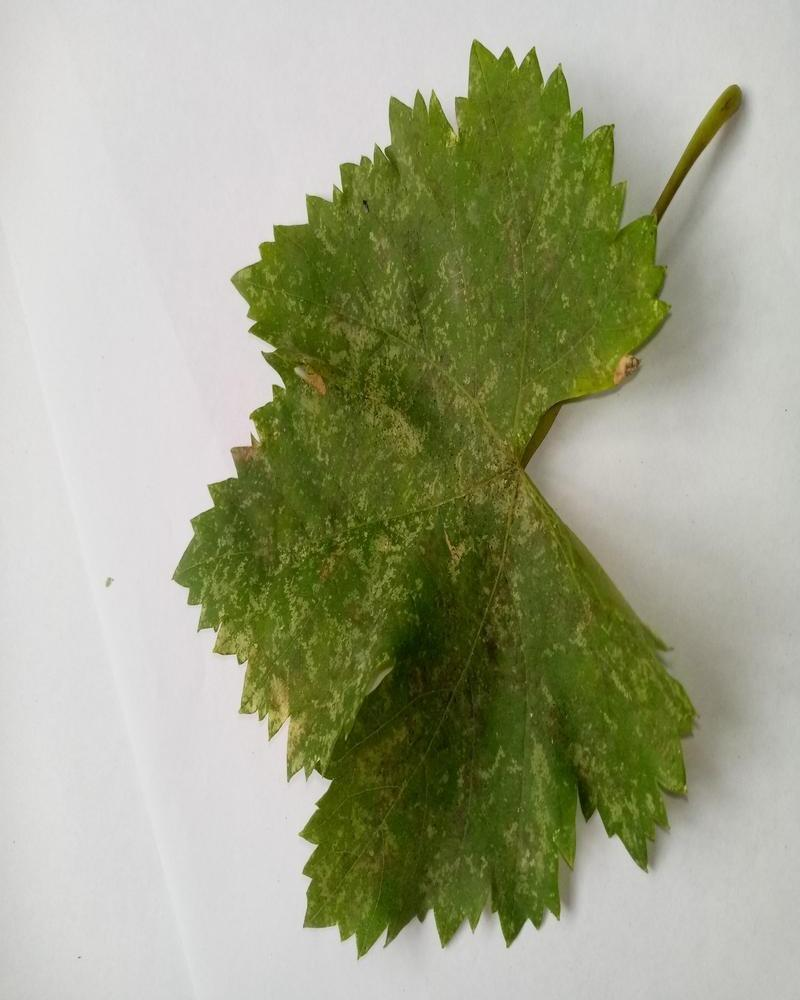Powdery-Mildew: (218, 491, 402, 762), (293, 239, 451, 462), (570, 595, 689, 847), (492, 103, 627, 279), (440, 355, 555, 553), (434, 744, 558, 918), (381, 480, 471, 583), (581, 324, 644, 387)
